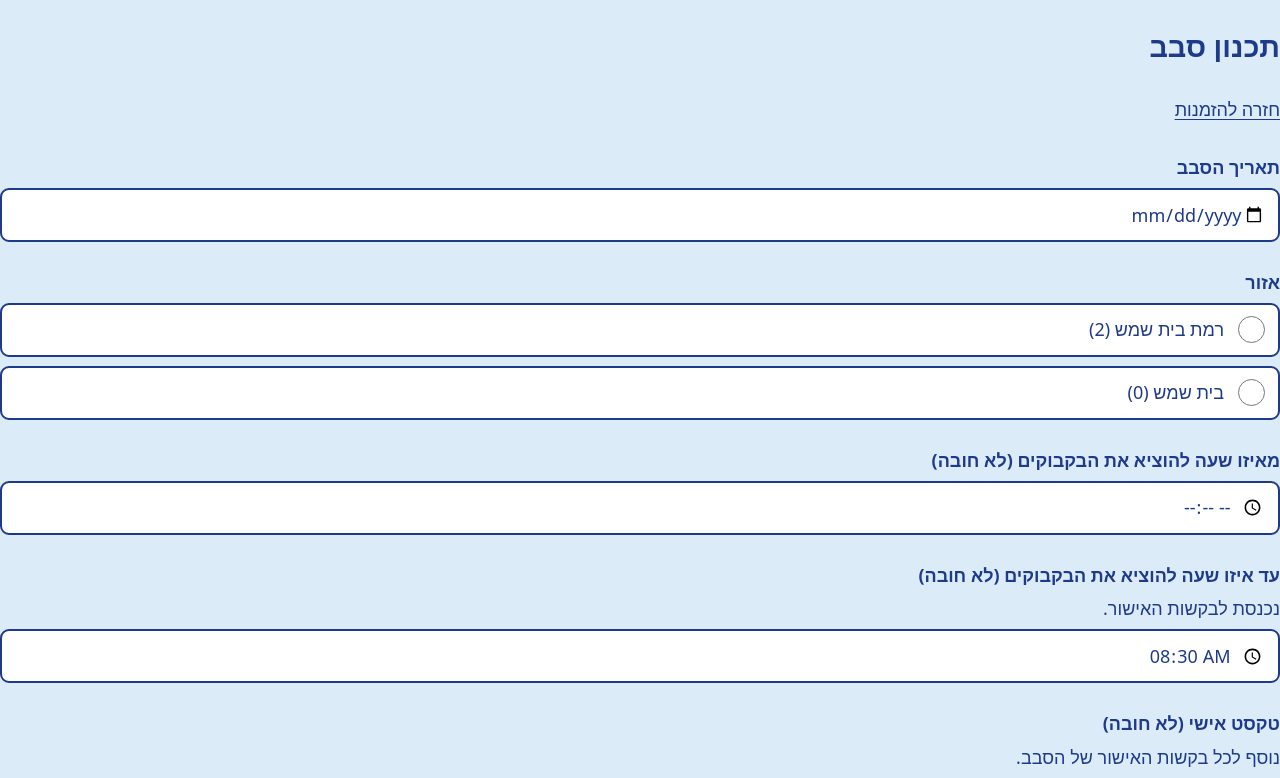
it: PlanRoundScreen › loaded › says so when the chosen region has no waiting orders
Click the radio button labelled "בית שמש (0)".
click(1251, 393)  # box [1238,379,1264,406]
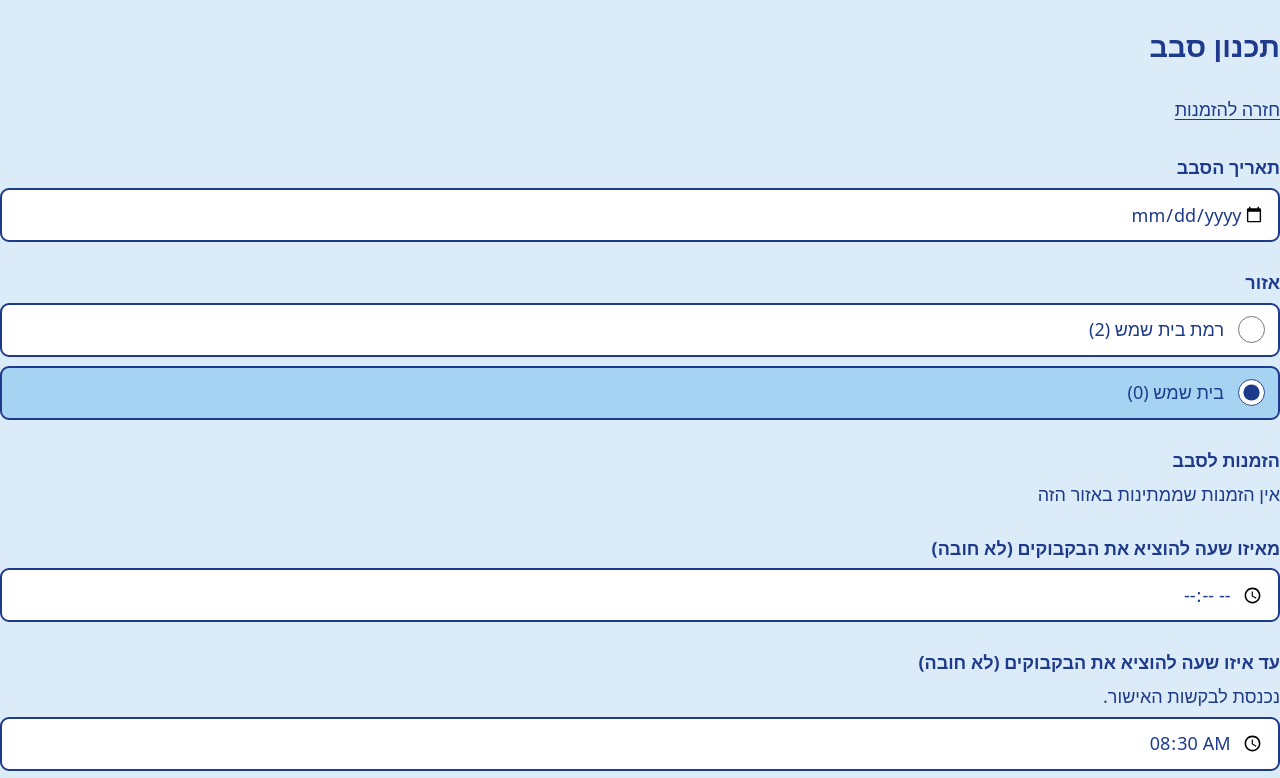
expect the label "בית שמש (0)" is shown: met, box [0,366,1279,420]
expect the text "אין הזמנות שממתינות באזור הזה" is shown: met, box [1038,482,1279,506]
